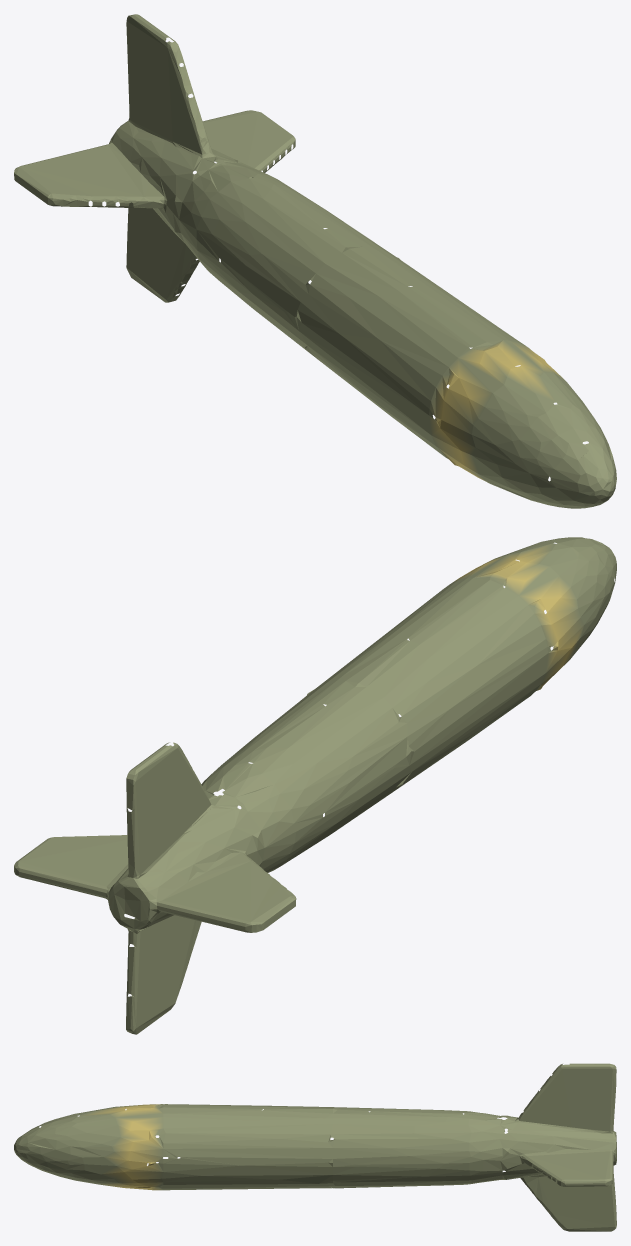
File: bomber_modern_bomb.glb
3 views of the same model, one above another, from view 1: azimuth 30°, elevation 25°; view 2: azimuth 150°, elevation 25°; view 3: azimuth 270°, elevation 25° (orthographic). The views are drawn at different scales.
Visible parts, largest first — view 1: GLTF; view 2: GLTF; view 3: GLTF.
Part boxes in pixels (x1,y1,x2,y2): GLTF: [14, 14, 616, 508]; GLTF: [14, 537, 616, 1034]; GLTF: [14, 1063, 616, 1231].
Size of the model in its own units: 0.964 by 0.9763 by 3.2.
